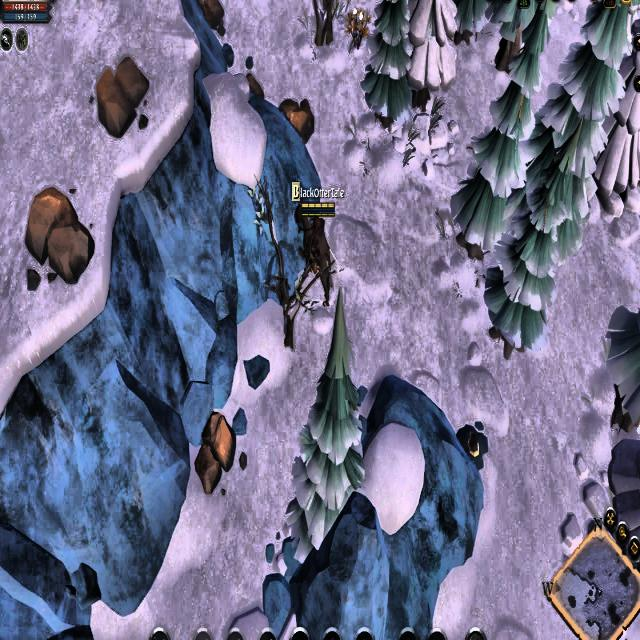copperore: (455, 413, 488, 469)
limestone: (22, 183, 94, 294), (92, 55, 152, 141), (192, 407, 238, 498), (278, 88, 314, 144), (198, 0, 228, 42), (240, 66, 266, 108)
